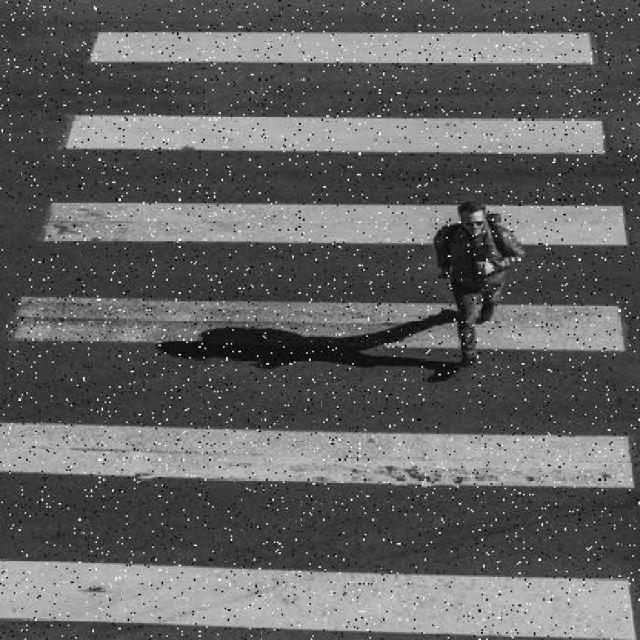crosswalk: (0, 2, 640, 640)
